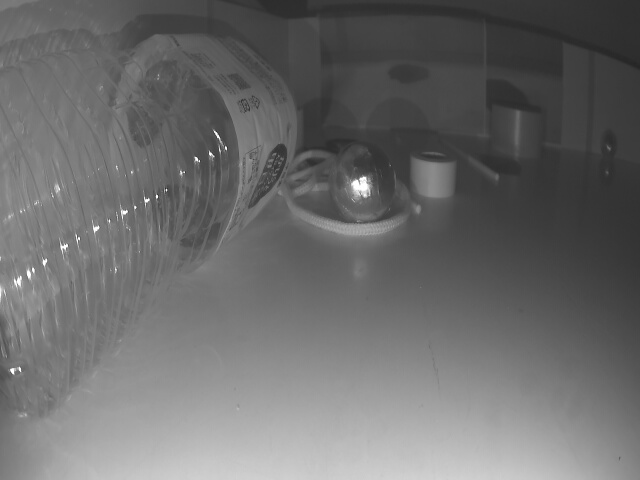Live: (329, 139, 394, 224), (602, 134, 619, 159)
